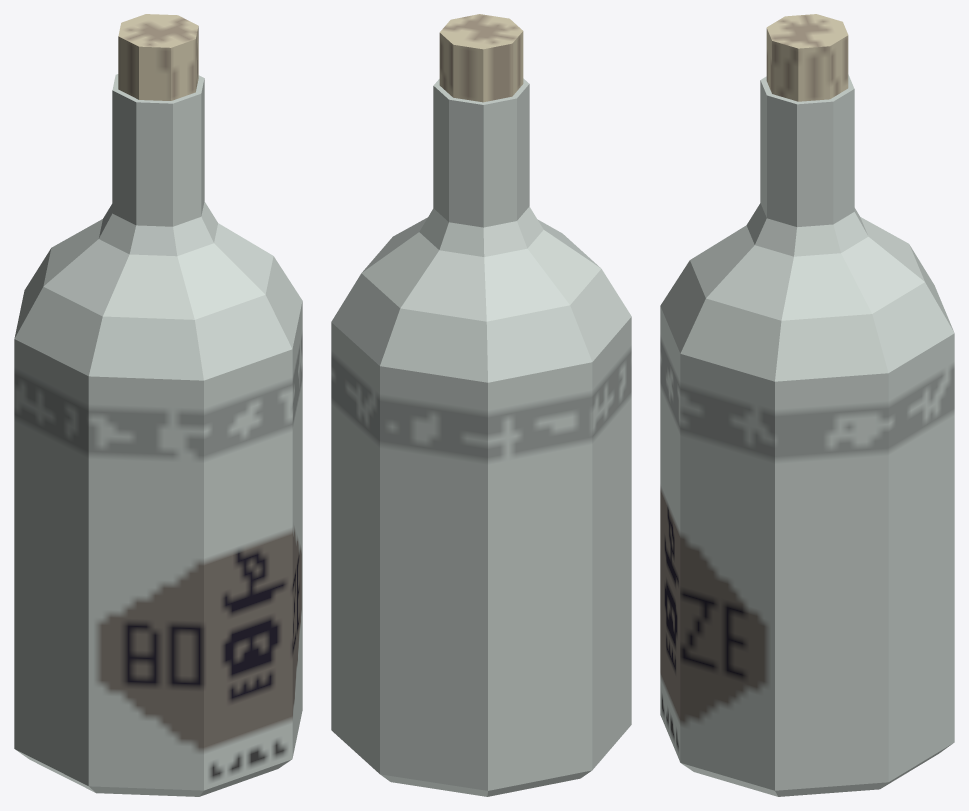
The model's file is Alcohol3.fbx.
3 views of the same model, side by side, from view 1: azimuth 30°, elevation 25°; view 2: azimuth 150°, elevation 25°; view 3: azimuth 270°, elevation 25° (orthographic).
Visible parts, largest first — view 1: Alcohol; view 2: Alcohol; view 3: Alcohol.
Boxes of the visible parts, left/top/right/bottom form: Alcohol: left=14, top=14, right=302, bottom=796; Alcohol: left=331, top=14, right=631, bottom=796; Alcohol: left=660, top=14, right=954, bottom=796.
Size of the model in its own units: 15.77 by 41.99 by 15.77.
